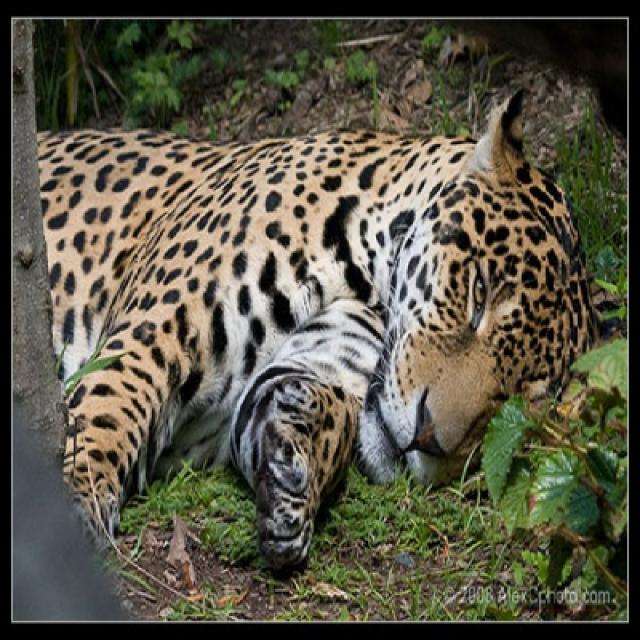Jaguar: (37, 90, 603, 579)
